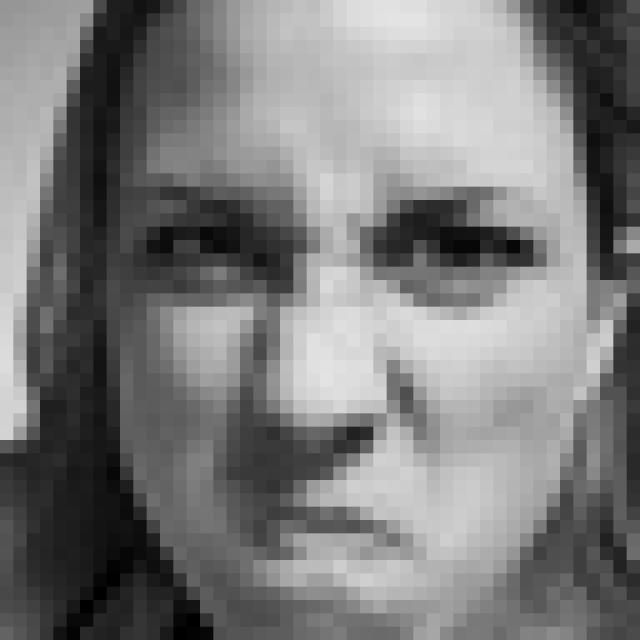angry: (128, 135, 566, 607)
